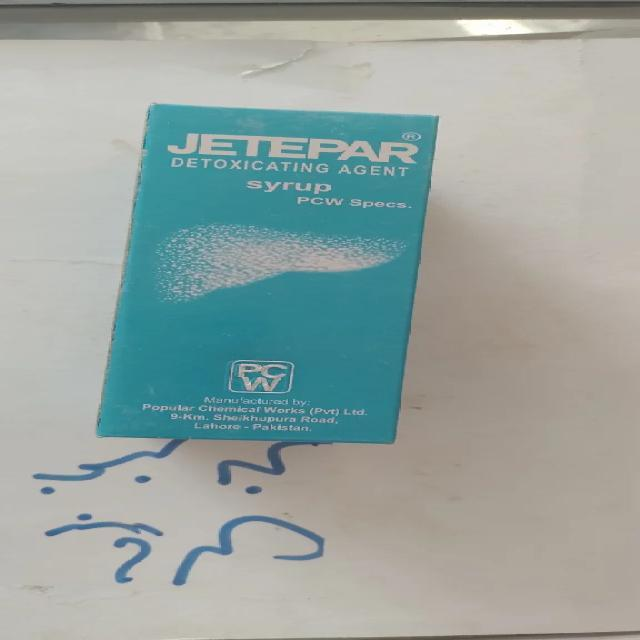drug-name: (168, 131, 423, 167)
